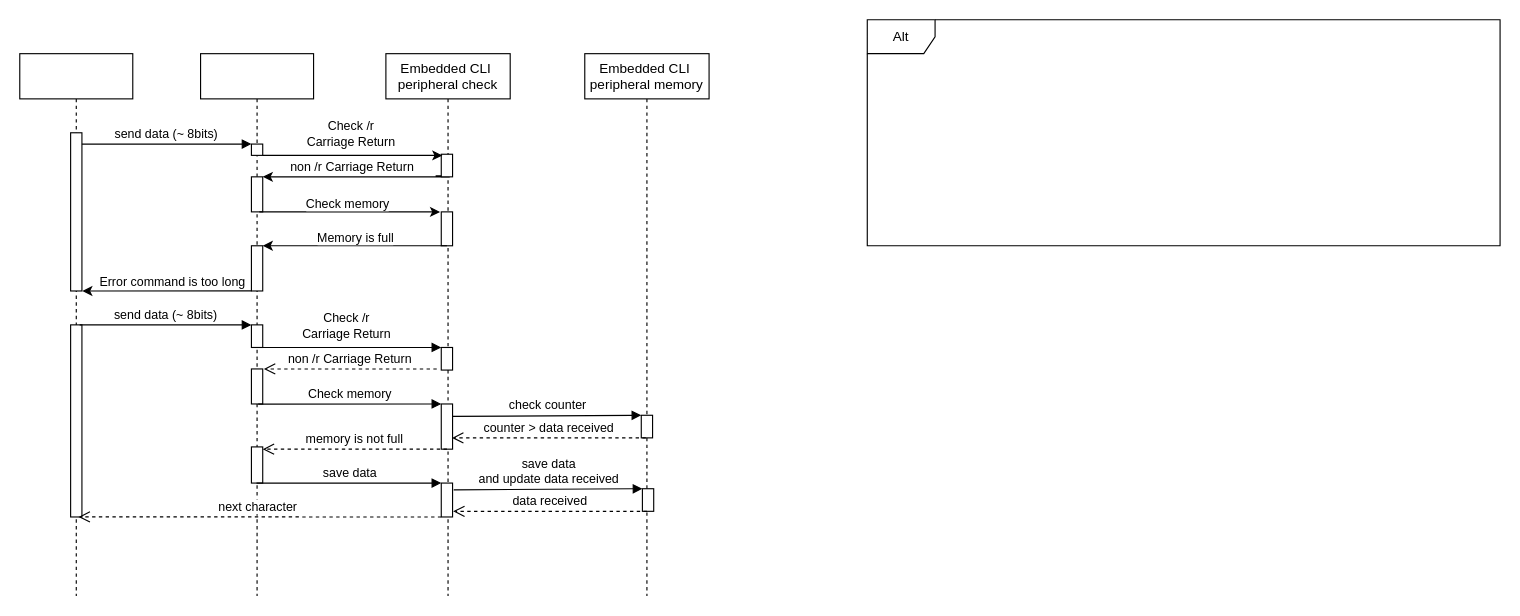
The diagram is 1520 pixels wide and 616 high, and some of its shapes have lost their labels. Here are the shapes that lost their labels. From the top down, the centre of each, then its label:
At point (76, 324): "Embedded CLI Controller".
At point (256, 324): "Embedded CLI peripheral UART".
